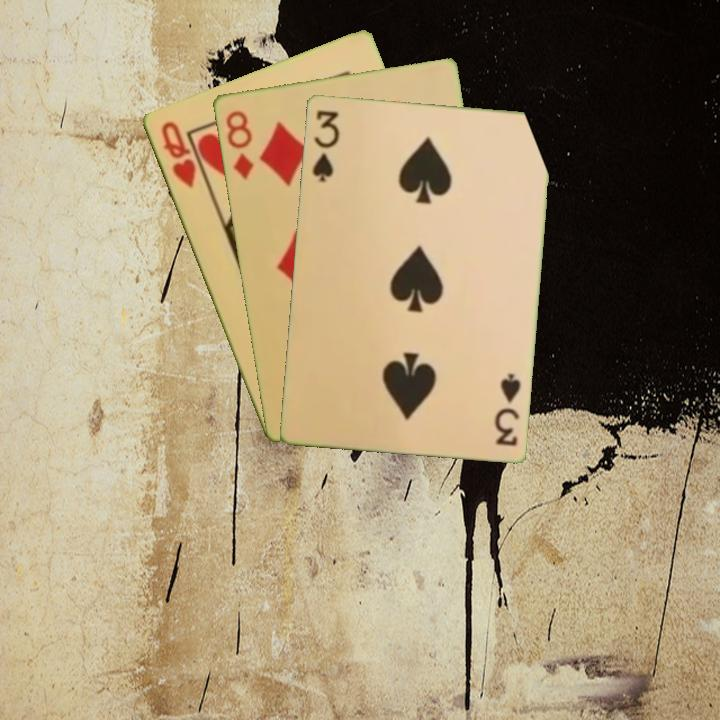3s: (308, 106, 342, 185), (490, 369, 523, 448)
8d: (222, 106, 256, 182)
Qh: (157, 117, 198, 191)
